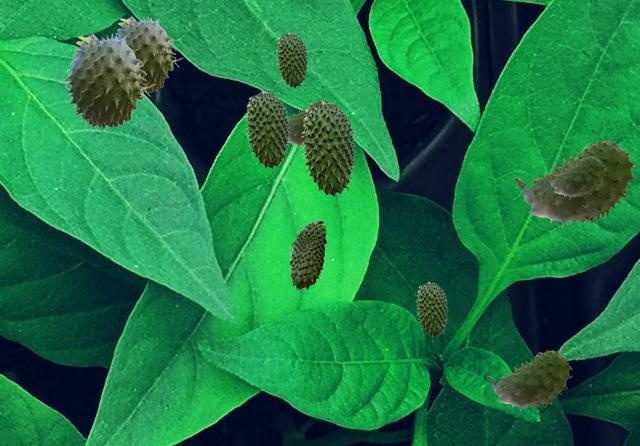guyabano: (514, 140, 635, 227), (60, 32, 154, 128), (115, 15, 182, 93), (301, 100, 355, 196), (487, 350, 571, 410), (245, 90, 289, 168), (289, 220, 326, 289), (546, 156, 605, 198), (288, 100, 327, 147), (276, 32, 307, 87), (416, 281, 447, 336)
